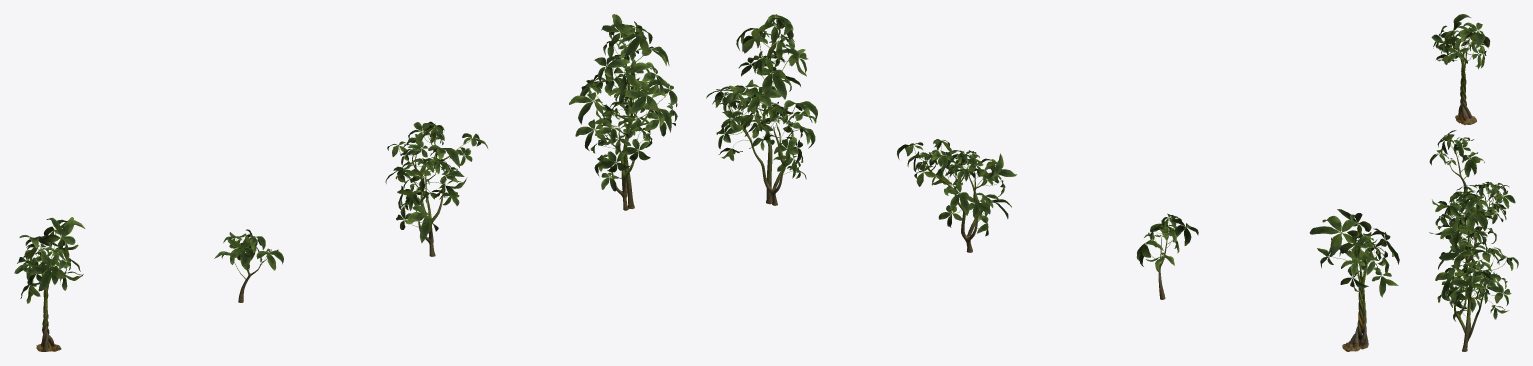
The model's file is pachira_aquatica_01.gltf.
3 views of the same model, side by side, from view 1: azimuth 30°, elevation 25°; view 2: azimuth 150°, elevation 25°; view 3: azimuth 270°, elevation 25° (orthographic). The views are drawn at different scales.
Visible parts, largest first — view 1: pachira_aquatica_01_leaves_d, pachira_aquatica_01_leaves_c, pachira_aquatica_01_leaves_a, pachira_aquatica_01_leaves_b, pachira_aquatica_01_bark_d, pachira_aquatica_01_bark_c, pachira_aquatica_01_bark_a; view 2: pachira_aquatica_01_leaves_d, pachira_aquatica_01_leaves_c, pachira_aquatica_01_leaves_a, pachira_aquatica_01_leaves_b, pachira_aquatica_01_bark_d, pachira_aquatica_01_bark_a, pachira_aquatica_01_bark_c; view 3: pachira_aquatica_01_leaves_d, pachira_aquatica_01_leaves_c, pachira_aquatica_01_leaves_a, pachira_aquatica_01_leaves_b, pachira_aquatica_01_bark_d, pachira_aquatica_01_bark_a, pachira_aquatica_01_bark_c, pachira_aquatica_01_bark_b.
Boxes of the visible parts, x1=… form: pachira_aquatica_01_leaves_d: x1=569, y1=14, x2=677, y2=191; pachira_aquatica_01_leaves_c: x1=385, y1=121, x2=487, y2=243; pachira_aquatica_01_leaves_a: x1=14, y1=217, x2=85, y2=303; pachira_aquatica_01_leaves_b: x1=214, y1=229, x2=283, y2=279; pachira_aquatica_01_bark_d: x1=595, y1=44, x2=652, y2=210; pachira_aquatica_01_bark_c: x1=409, y1=137, x2=457, y2=256; pachira_aquatica_01_bark_a: x1=36, y1=265, x2=61, y2=351; pachira_aquatica_01_leaves_d: x1=706, y1=14, x2=817, y2=179; pachira_aquatica_01_leaves_c: x1=897, y1=139, x2=1016, y2=236; pachira_aquatica_01_leaves_a: x1=1309, y1=209, x2=1399, y2=297; pachira_aquatica_01_leaves_b: x1=1136, y1=213, x2=1198, y2=274; pachira_aquatica_01_bark_d: x1=728, y1=43, x2=793, y2=205; pachira_aquatica_01_bark_a: x1=1342, y1=259, x2=1368, y2=351; pachira_aquatica_01_bark_c: x1=923, y1=159, x2=989, y2=252; pachira_aquatica_01_leaves_d: x1=1429, y1=190, x2=1518, y2=321; pachira_aquatica_01_leaves_c: x1=1432, y1=181, x2=1515, y2=244; pachira_aquatica_01_leaves_a: x1=1431, y1=14, x2=1490, y2=69; pachira_aquatica_01_leaves_b: x1=1429, y1=130, x2=1484, y2=179; pachira_aquatica_01_bark_d: x1=1454, y1=219, x2=1492, y2=351; pachira_aquatica_01_bark_a: x1=1455, y1=50, x2=1476, y2=125; pachira_aquatica_01_bark_c: x1=1453, y1=190, x2=1497, y2=268; pachira_aquatica_01_bark_b: x1=1447, y1=149, x2=1467, y2=195.
Size of the model in its own units: 6.87 by 1.9 by 0.997.
Materials: 2 (2 with a texture image).
